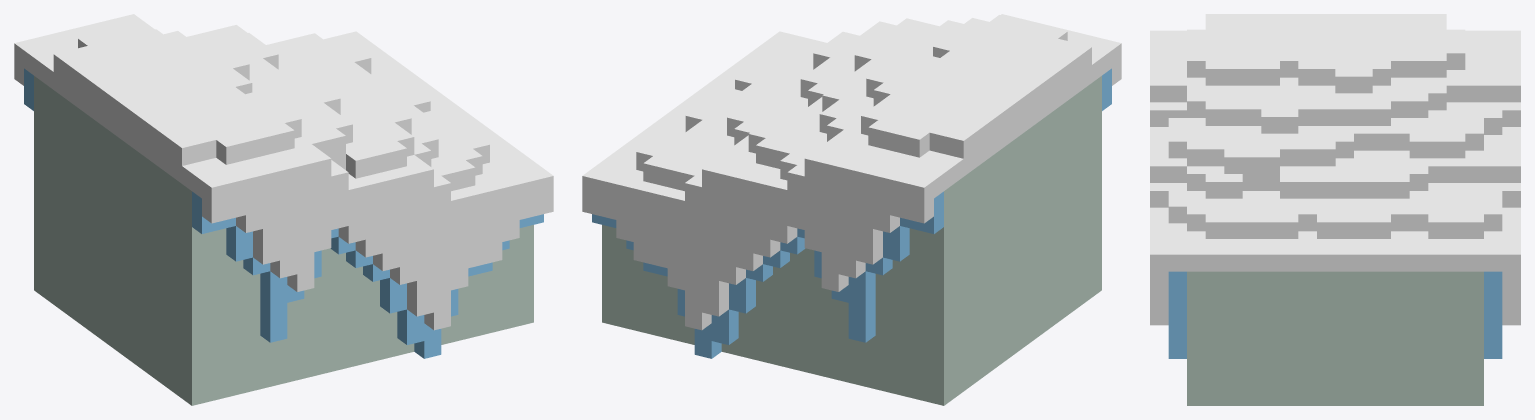
File: Floors-27.obj
3 renders of one model, left to right at view 1: azimuth 30°, elevation 25°; view 2: azimuth 150°, elevation 25°; view 3: azimuth 270°, elevation 25°, orthographic. The views are drawn at different scales.
Bounding box in the file's own units: 2 × 1.4 × 2.
Materials: 1 (1 with a texture image).
